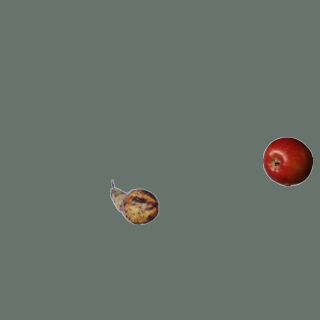Apple Braeburn: (262, 136, 312, 186)
Pear Abate: (109, 177, 159, 227)
